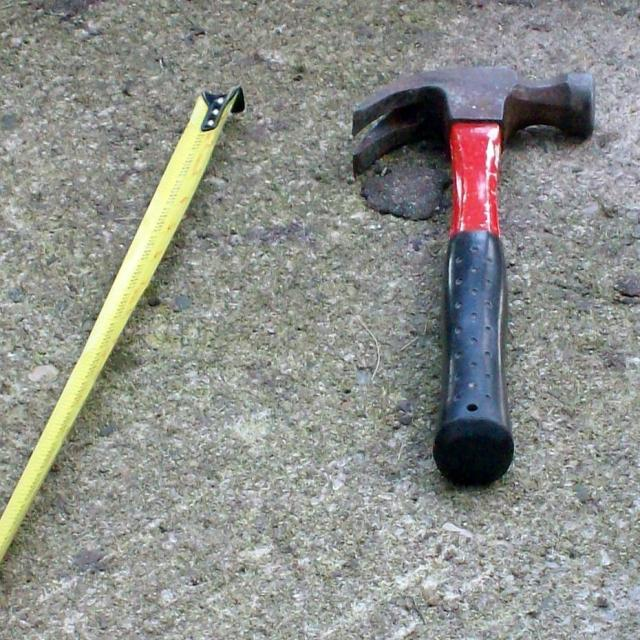hammer: (350, 61, 596, 490)
